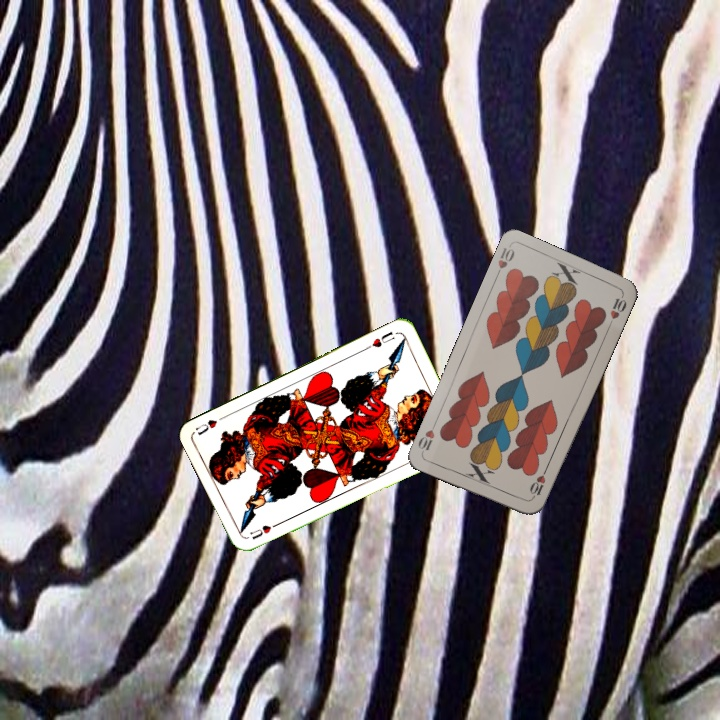H10: (491, 243, 517, 281), (526, 464, 550, 502)
HU: (362, 327, 397, 352), (246, 521, 274, 542)
